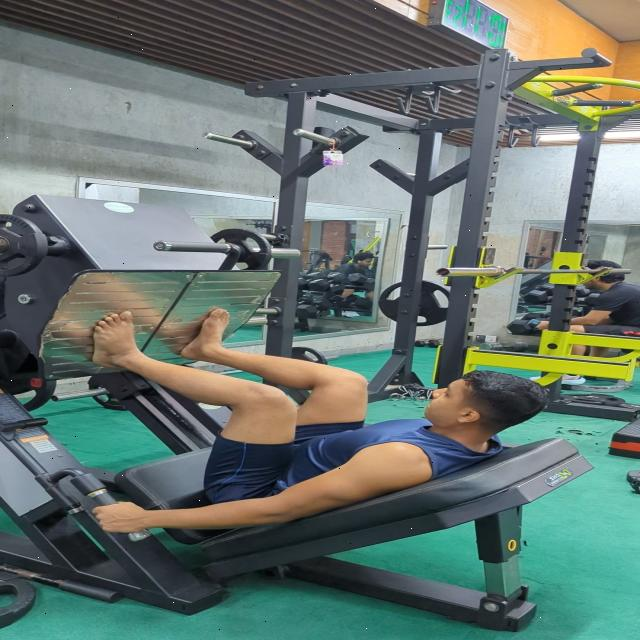Normal_LegPress: (0, 305, 602, 546)
